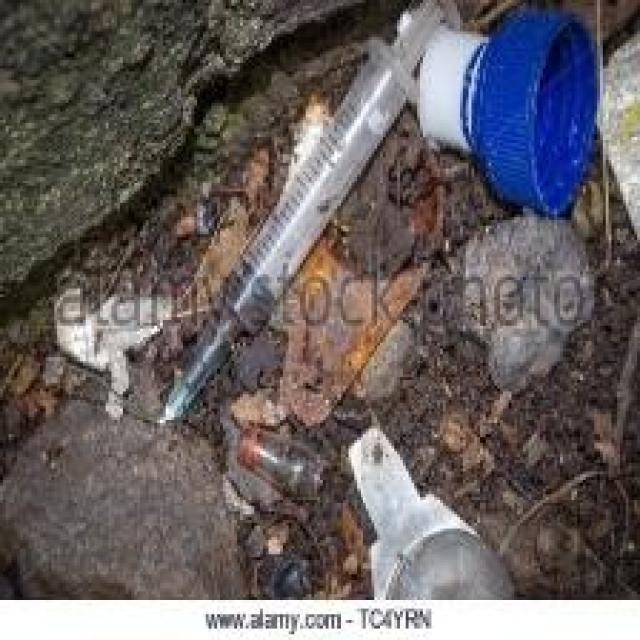syringe: (142, 0, 502, 471)
